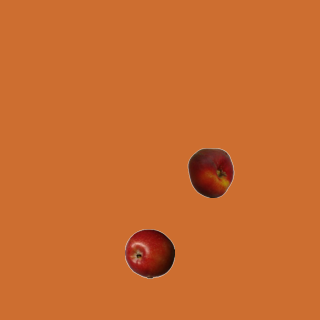Apple Braeburn: (124, 228, 174, 278)
Nectarine Flat: (185, 147, 235, 197)
